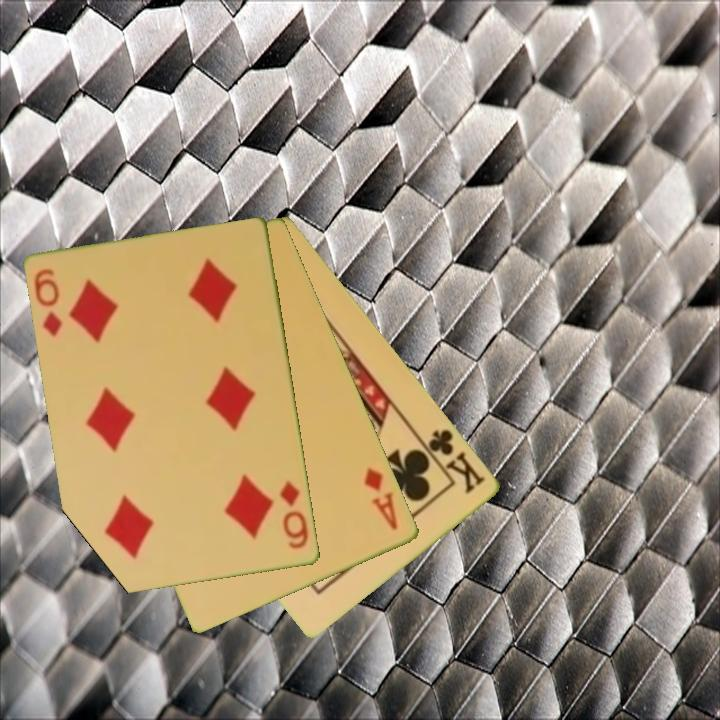6d: (276, 477, 312, 552), (31, 265, 66, 341)
Ad: (361, 464, 401, 533)
Kc: (417, 425, 489, 497)
